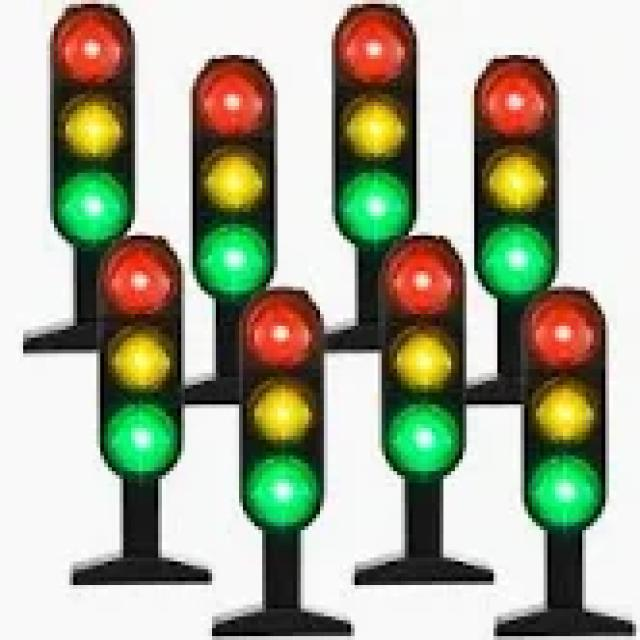suv: (92, 232, 182, 479), (327, 0, 416, 247), (516, 286, 606, 530), (46, 0, 134, 247), (235, 286, 324, 530), (471, 50, 558, 298), (189, 50, 274, 298), (378, 232, 462, 479)
